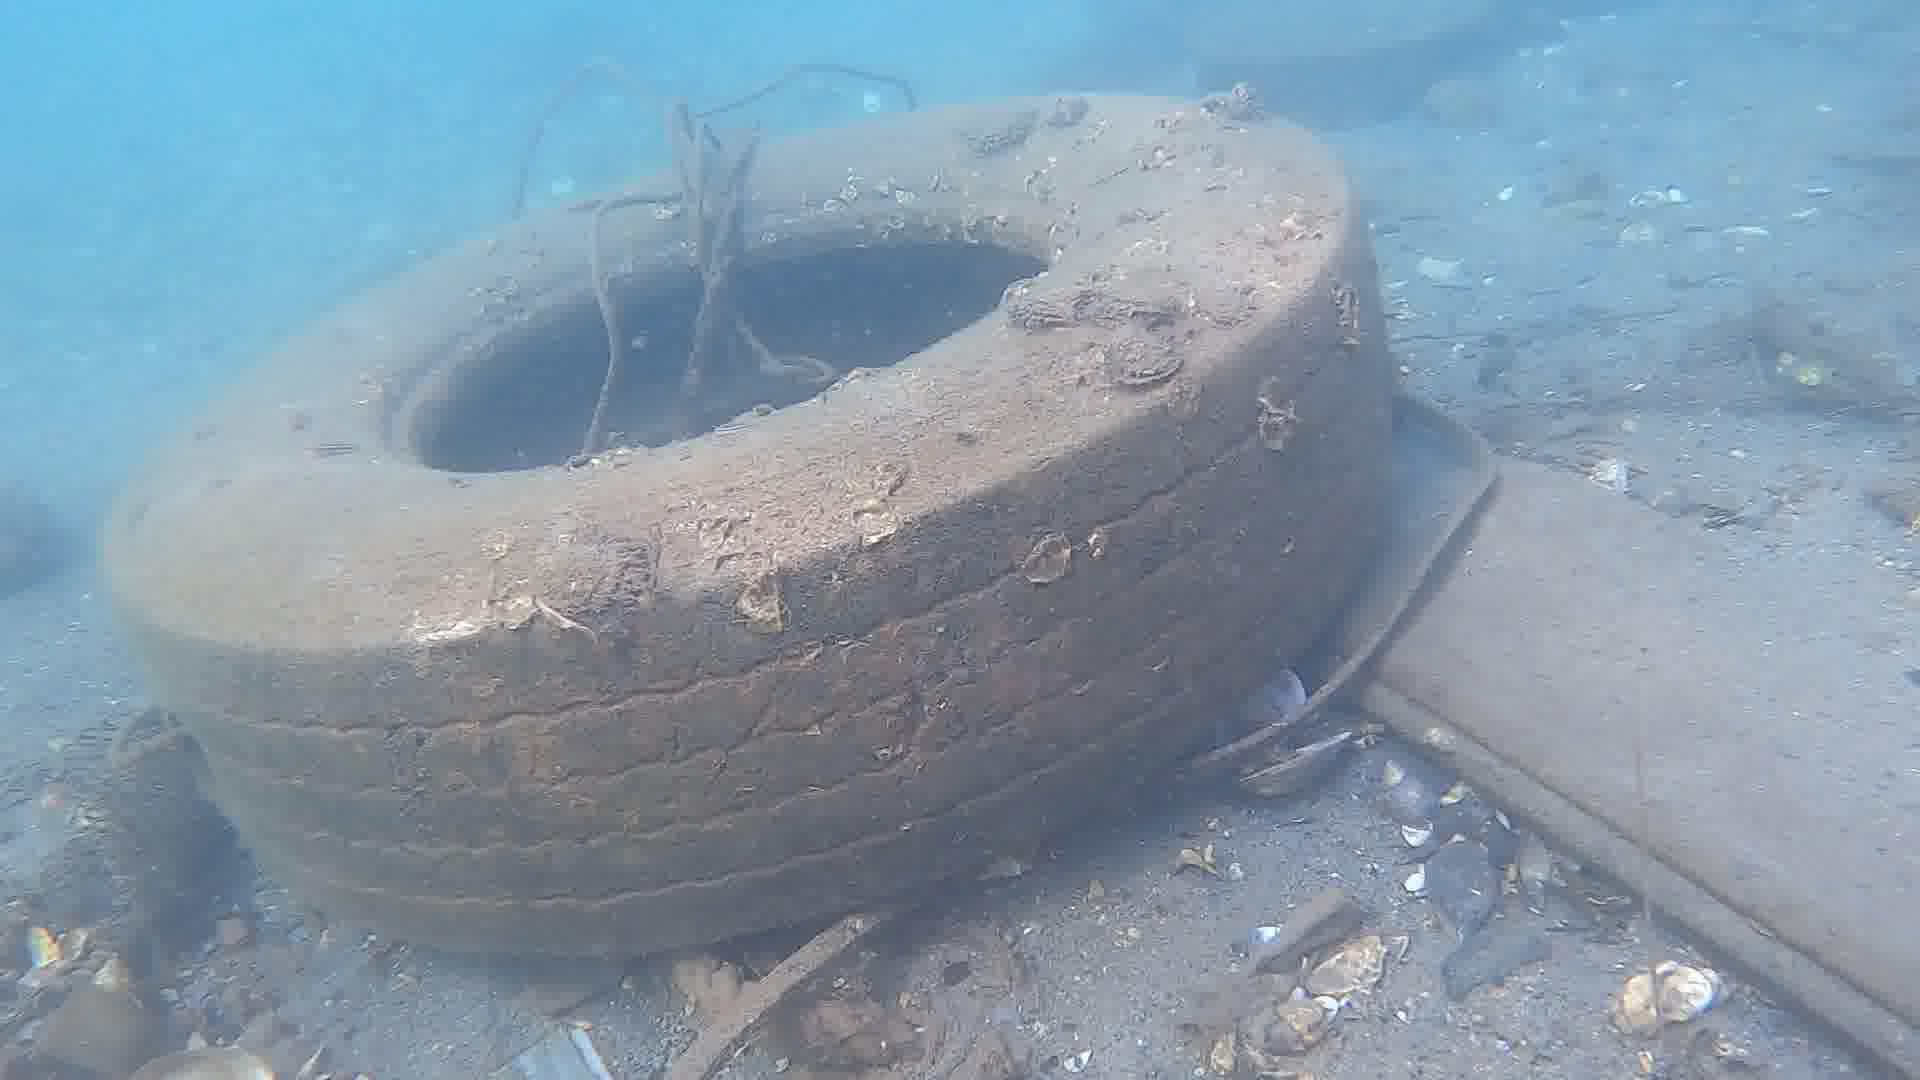bundle of ropes: (501, 51, 924, 468)
rope: (1160, 381, 1502, 775)
tire: (96, 88, 1396, 955)
